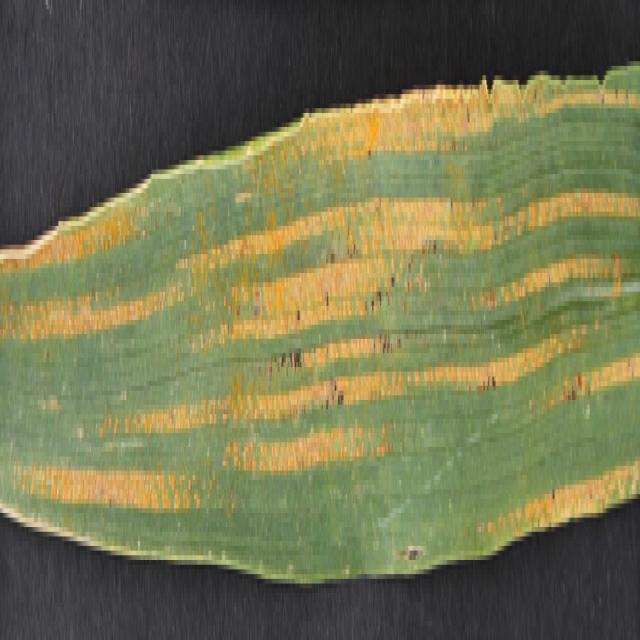leaf rust: (2, 52, 639, 541)
